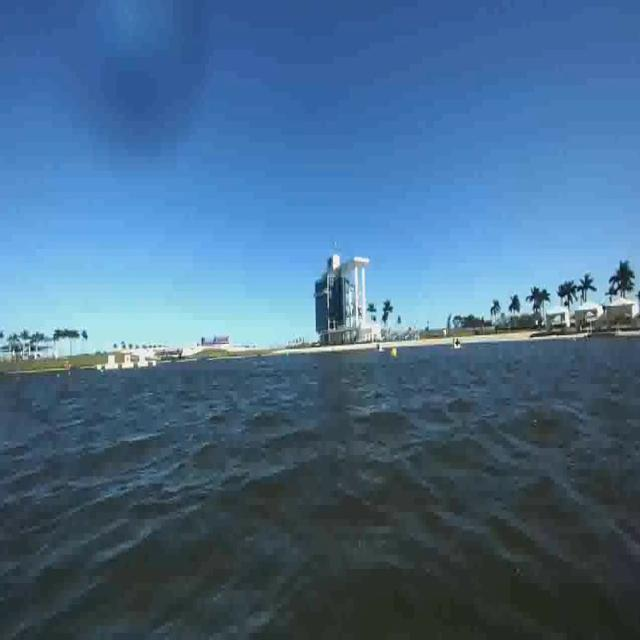yellow-buoy: (390, 346, 398, 358)
